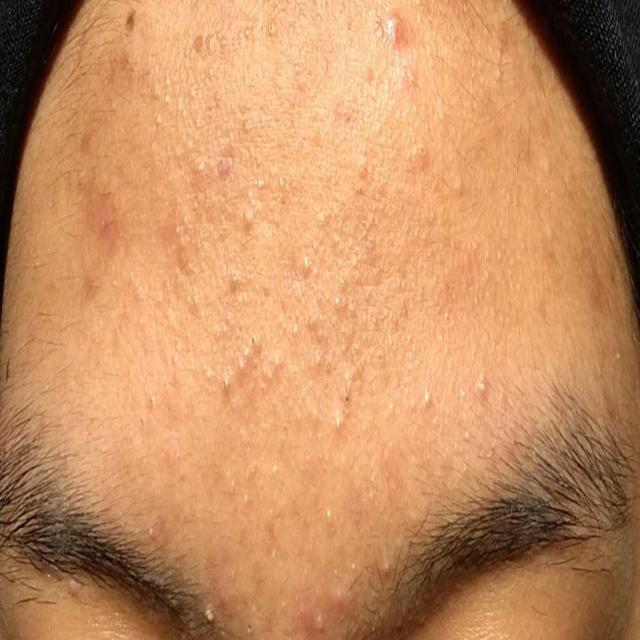fungal: (120, 48, 500, 462)
